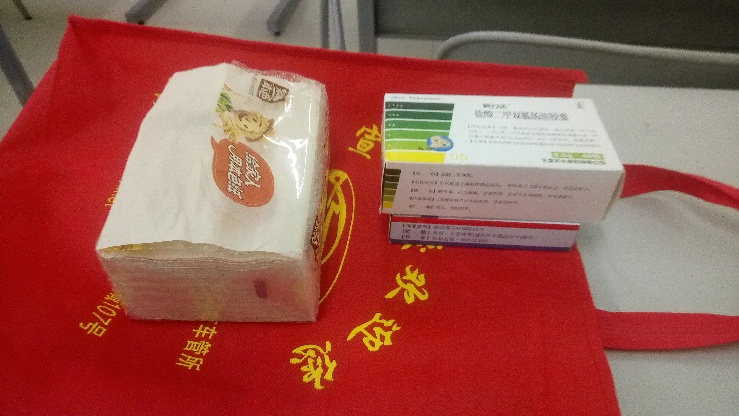pillbox: (382, 93, 616, 223), (389, 214, 581, 254)
